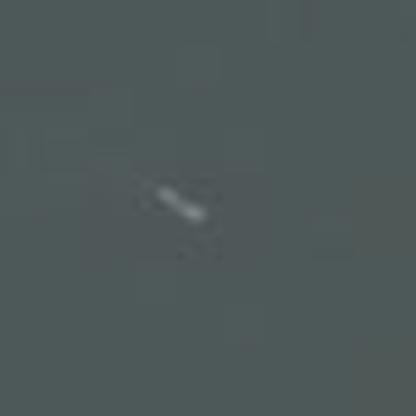ship: (146, 173, 214, 232)
